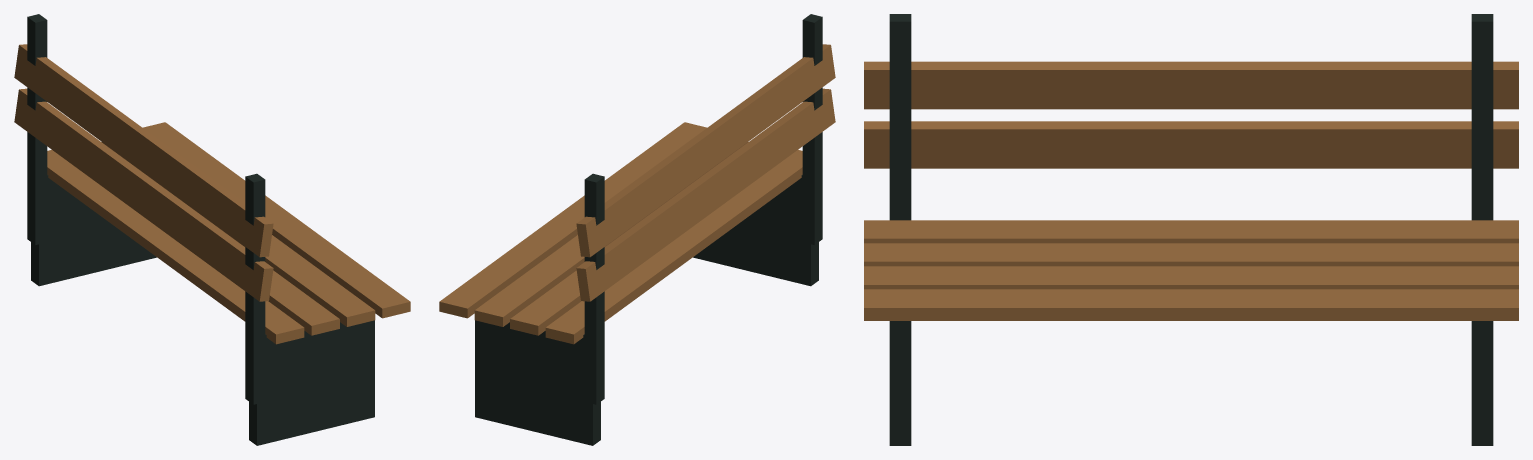
File: bench.glb
3 renders of one model, left to right at view 1: azimuth 30°, elevation 25°; view 2: azimuth 150°, elevation 25°; view 3: azimuth 270°, elevation 25°, orthographic. The views are drawn at different scales.
Parts seen in each view (by area): view 1: bench; view 2: bench; view 3: bench.
Boxes of the visible parts, x1,y1,x2,y2 form: bench: (14, 14, 410, 445); bench: (439, 14, 835, 445); bench: (864, 14, 1518, 445).
Bounding box in the file's own units: 0.6395 × 1.07 × 1.8.
